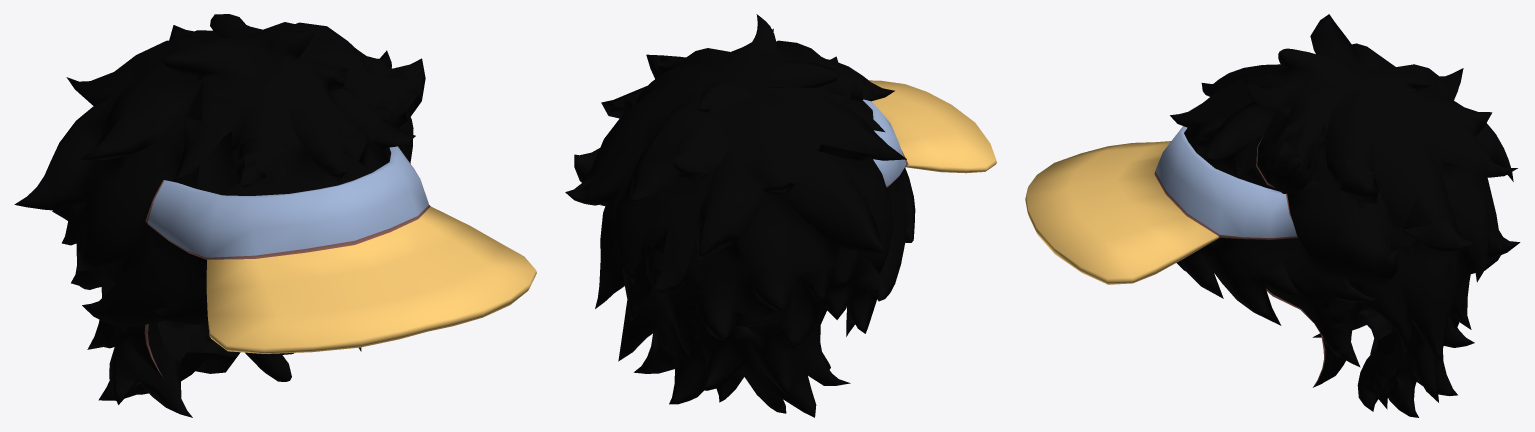
Rendered from Mesh_Char_Player_Male_BaseSet01_Hair.FBX.
3 renders of one model, left to right at view 1: azimuth 30°, elevation 25°; view 2: azimuth 150°, elevation 25°; view 3: azimuth 270°, elevation 25°, orthographic. The views are drawn at different scales.
Visible parts, largest first — view 1: Mesh_Char_Player_Male_BaseSet01_Hair; view 2: Mesh_Char_Player_Male_BaseSet01_Hair; view 3: Mesh_Char_Player_Male_BaseSet01_Hair.
Boxes of the visible parts, x1=… form: Mesh_Char_Player_Male_BaseSet01_Hair: x1=14, y1=14, x2=536, y2=417; Mesh_Char_Player_Male_BaseSet01_Hair: x1=565, y1=14, x2=996, y2=417; Mesh_Char_Player_Male_BaseSet01_Hair: x1=1025, y1=14, x2=1520, y2=417.
Size of the model in its own units: 38.22 by 38.03 by 48.97.
